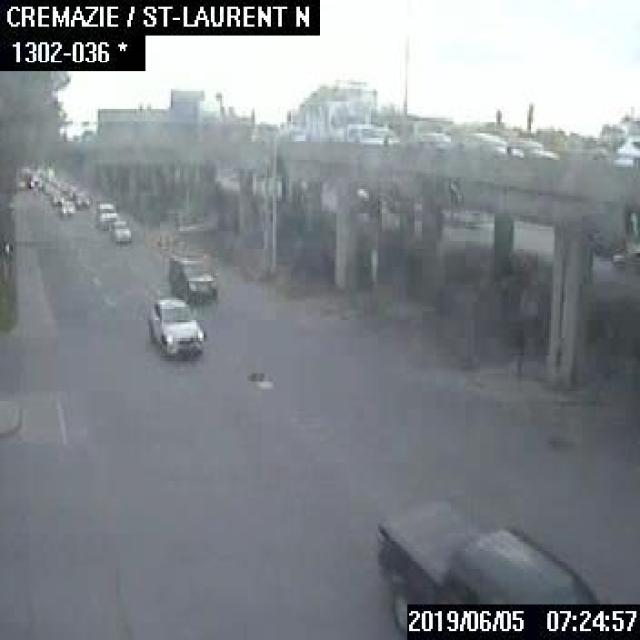vehicle: (373, 493, 600, 631), (145, 294, 204, 356), (166, 254, 219, 301), (456, 131, 518, 156), (613, 134, 638, 165), (94, 198, 119, 228), (346, 122, 380, 142), (107, 218, 131, 242), (72, 186, 94, 209), (59, 198, 74, 215), (50, 189, 64, 206), (28, 174, 42, 188), (41, 182, 54, 196)
